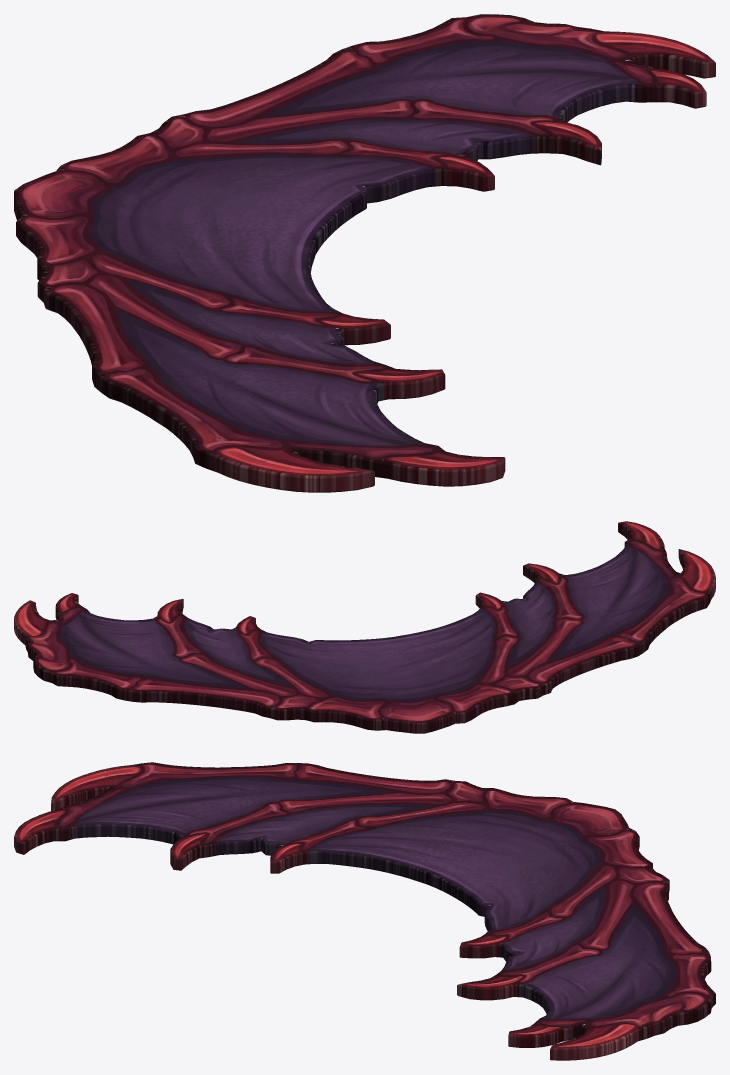
File: Boomerang_21.fbx
3 views of the same model, one above another, from view 1: azimuth 30°, elevation 25°; view 2: azimuth 150°, elevation 25°; view 3: azimuth 270°, elevation 25° (orthographic). The views are drawn at different scales.
Visible parts, largest first — view 1: Boomerang_21; view 2: Boomerang_21; view 3: Boomerang_21.
Part boxes in pixels (x1,y1,x2,y2): Boomerang_21: (14,14,715,492); Boomerang_21: (14,521,715,733); Boomerang_21: (14,762,715,1060).
Bounding box in the file's own units: 199 × 4 × 206.
Materials: 1 (1 with a texture image).
